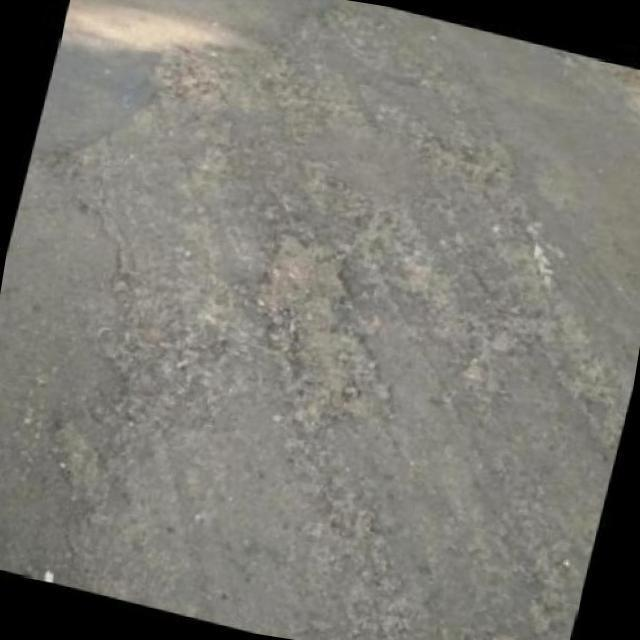Pothole: (268, 240, 392, 428)
